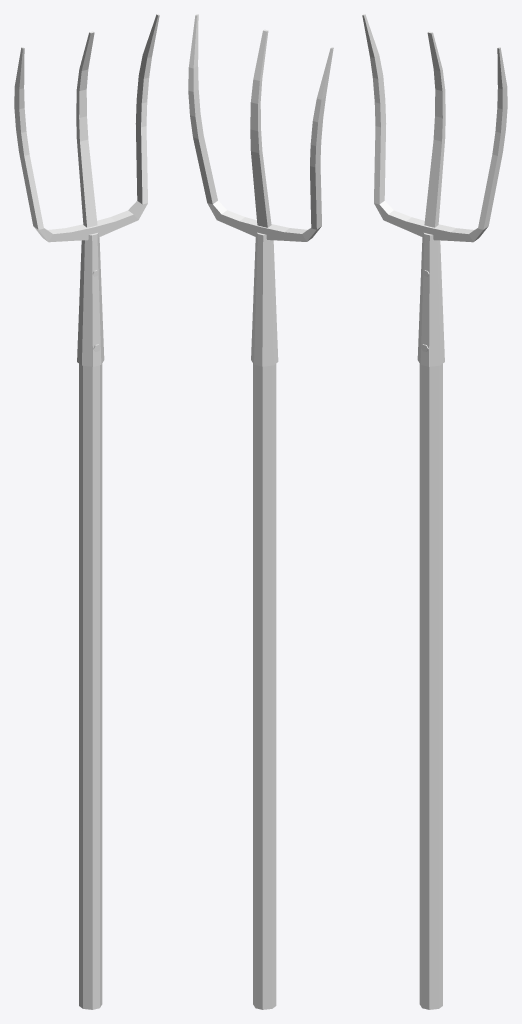
Rendered from Tool_Pitchfork_02.glb.
The picture shows the model from 3 angles, left to right: view 1: azimuth 30°, elevation 25°; view 2: azimuth 150°, elevation 25°; view 3: azimuth 330°, elevation 25°; orthographic projection.
Parts seen in each view (by area): view 1: Tool_Pitchfork_02; view 2: Tool_Pitchfork_02; view 3: Tool_Pitchfork_02.
Part boxes in pixels (x1,y1,x2,y2): Tool_Pitchfork_02: (14, 14, 159, 1009); Tool_Pitchfork_02: (188, 14, 333, 1009); Tool_Pitchfork_02: (362, 14, 507, 1009).
Size of the model in its own units: 0.2648 by 1.8 by 0.0617.
Materials: 1 (1 with a texture image).
